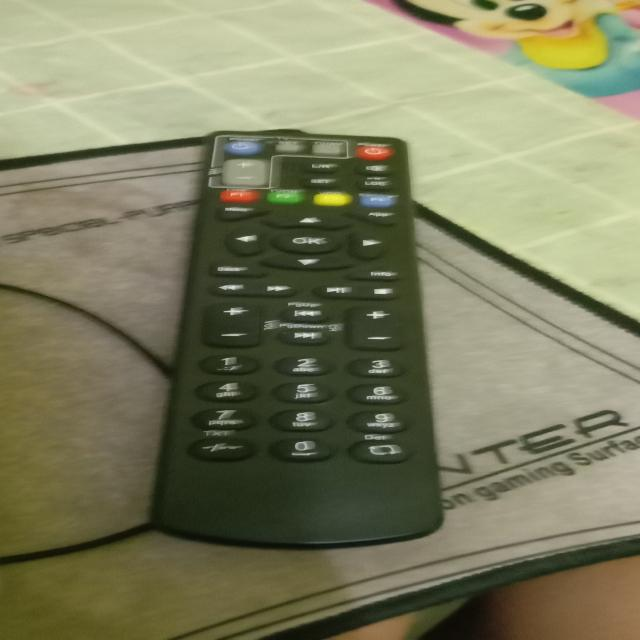remote: (171, 131, 449, 540)
